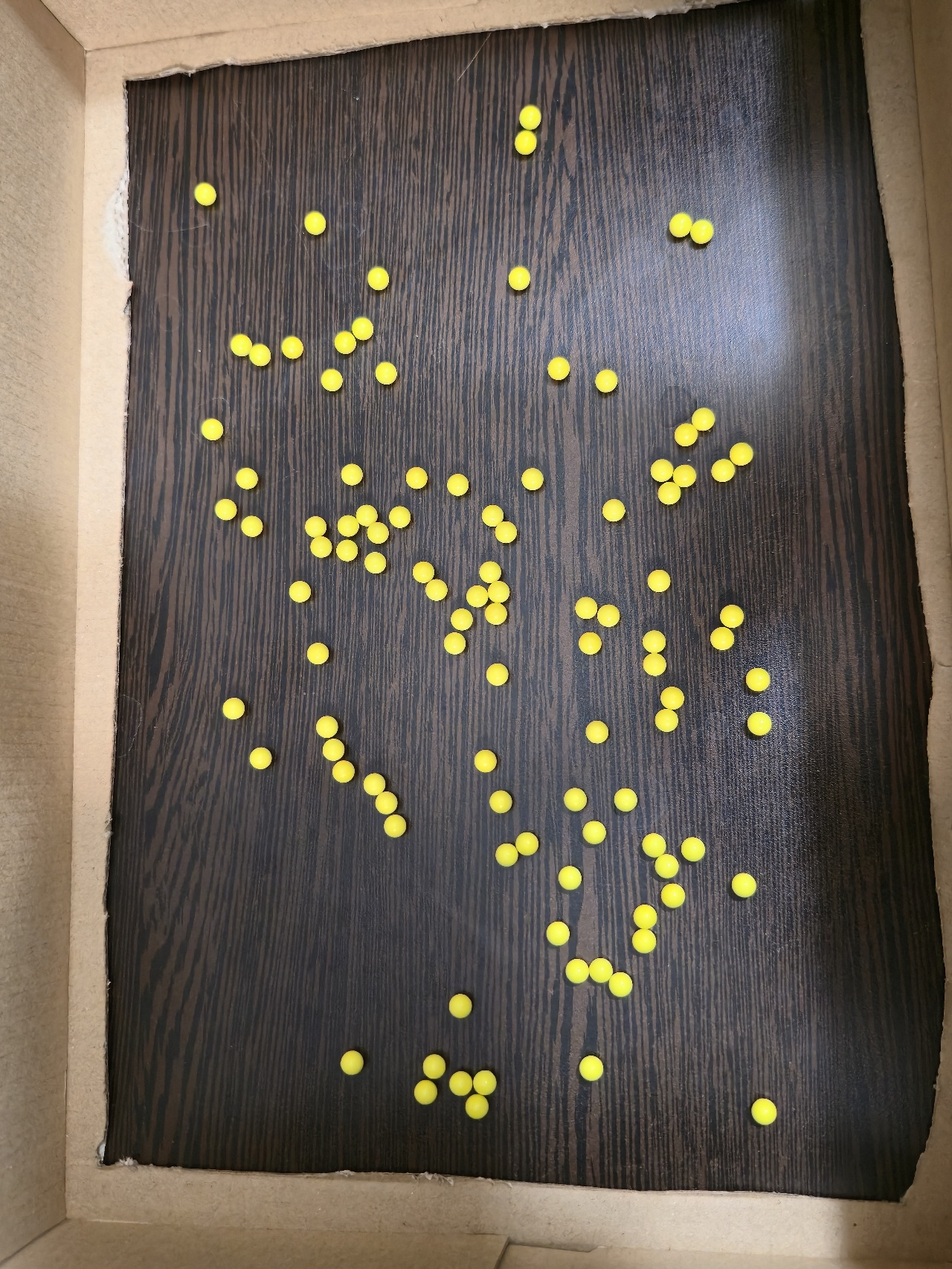yellow_bead: (758, 1105, 771, 1119), (676, 218, 689, 231), (585, 1062, 597, 1075), (594, 965, 607, 977), (638, 934, 650, 947), (479, 1076, 490, 1089), (525, 111, 536, 124), (455, 1078, 466, 1090), (429, 1061, 440, 1073), (615, 979, 626, 991), (572, 966, 584, 977), (640, 913, 652, 924), (668, 890, 679, 902), (738, 880, 750, 891), (687, 844, 699, 855), (649, 840, 660, 852), (754, 718, 765, 730), (698, 414, 710, 425), (695, 226, 707, 237), (472, 1102, 483, 1113), (420, 1087, 431, 1098), (455, 1001, 466, 1012), (553, 928, 564, 939), (565, 873, 576, 884), (521, 838, 532, 849), (620, 795, 631, 806), (661, 715, 672, 726), (753, 674, 764, 685), (649, 637, 660, 648), (718, 465, 729, 476), (588, 828, 600, 838), (373, 272, 383, 284), (310, 217, 320, 229), (347, 1058, 357, 1069), (502, 850, 512, 861), (495, 797, 506, 807), (570, 795, 581, 805), (667, 694, 678, 704), (650, 659, 660, 670), (727, 612, 738, 622), (603, 611, 614, 621), (681, 430, 692, 440), (390, 822, 400, 832), (450, 639, 460, 649), (718, 634, 728, 644), (342, 546, 352, 556), (665, 488, 675, 498), (657, 466, 667, 476), (737, 449, 747, 459), (601, 376, 611, 386), (554, 364, 564, 374), (254, 350, 264, 360), (200, 189, 210, 199), (679, 472, 690, 481), (358, 323, 367, 334), (382, 367, 390, 379), (661, 860, 668, 873), (338, 768, 348, 777), (592, 728, 602, 737), (322, 723, 332, 732), (492, 671, 502, 680), (585, 640, 595, 649), (457, 615, 467, 624), (492, 609, 501, 619), (494, 588, 504, 597), (654, 577, 664, 586), (317, 542, 326, 552), (501, 528, 511, 537), (488, 512, 498, 521), (362, 511, 371, 521), (453, 481, 463, 490), (528, 475, 538, 484), (515, 274, 524, 284), (472, 593, 483, 601), (236, 342, 247, 350), (382, 800, 391, 809), (370, 780, 379, 789), (480, 757, 489, 766), (256, 754, 265, 763), (329, 746, 338, 755), (582, 604, 591, 613), (295, 588, 304, 597), (432, 586, 441, 595), (486, 568, 495, 577), (419, 568, 428, 577), (370, 559, 379, 568), (373, 529, 382, 538), (247, 522, 256, 531), (395, 513, 404, 522), (207, 425, 216, 434), (327, 376, 336, 385), (287, 344, 296, 353), (313, 650, 323, 658), (609, 507, 619, 515), (311, 524, 320, 532), (344, 522, 353, 530), (221, 506, 230, 514), (242, 475, 251, 483), (347, 471, 356, 479), (341, 340, 350, 348), (229, 705, 237, 713), (413, 475, 421, 483), (521, 139, 527, 145), (669, 871, 670, 872)
